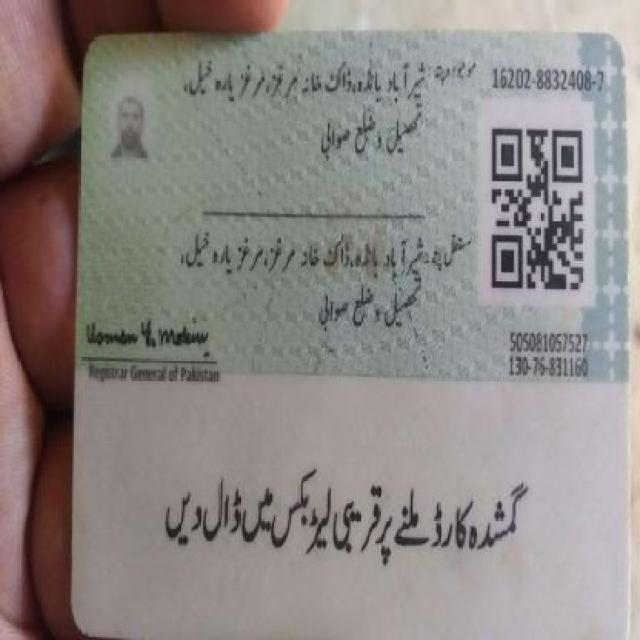Back: (66, 30, 632, 632)
